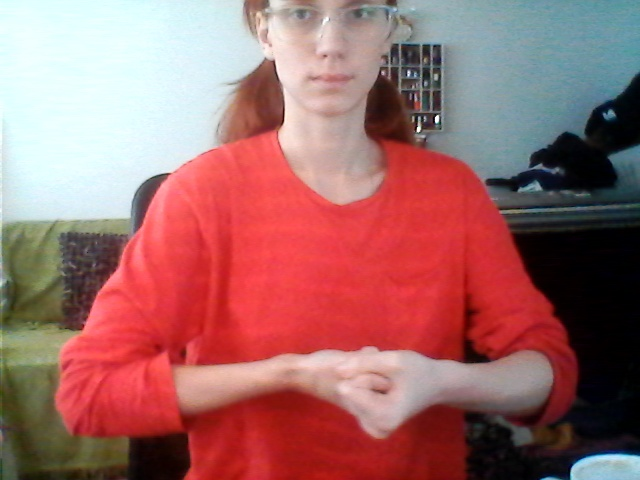hasic: (288, 318, 468, 449)
